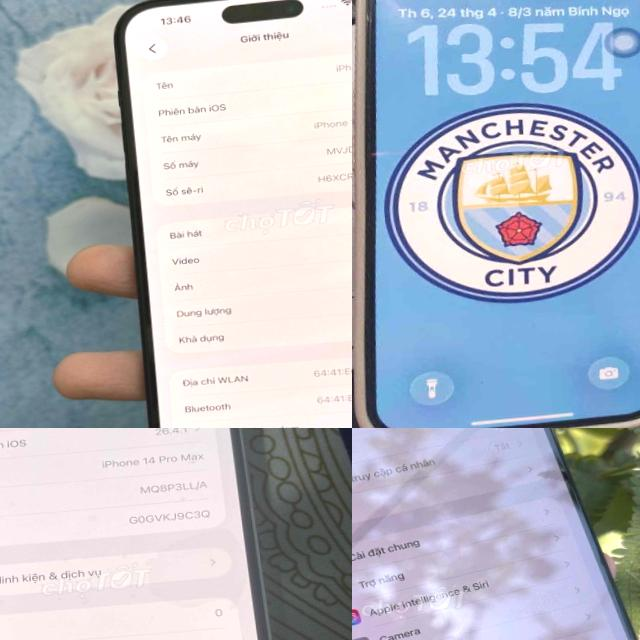gen_14: (0, 428, 316, 640)
gen_15: (352, 0, 640, 428), (94, 0, 352, 428), (352, 428, 640, 640)
